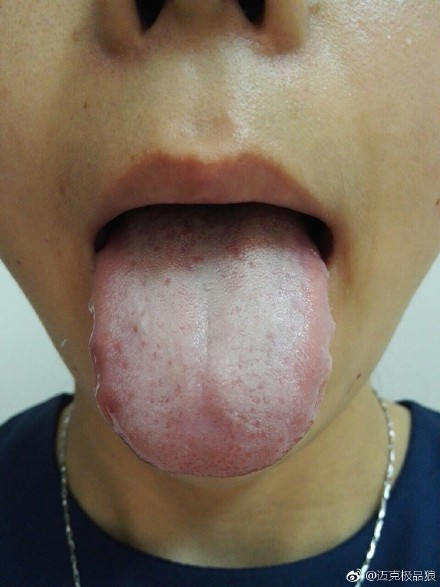baitaishe: (88, 203, 334, 476)
chihenshe: (96, 385, 125, 436)
hongdianshe: (188, 253, 206, 267), (130, 321, 140, 336)
